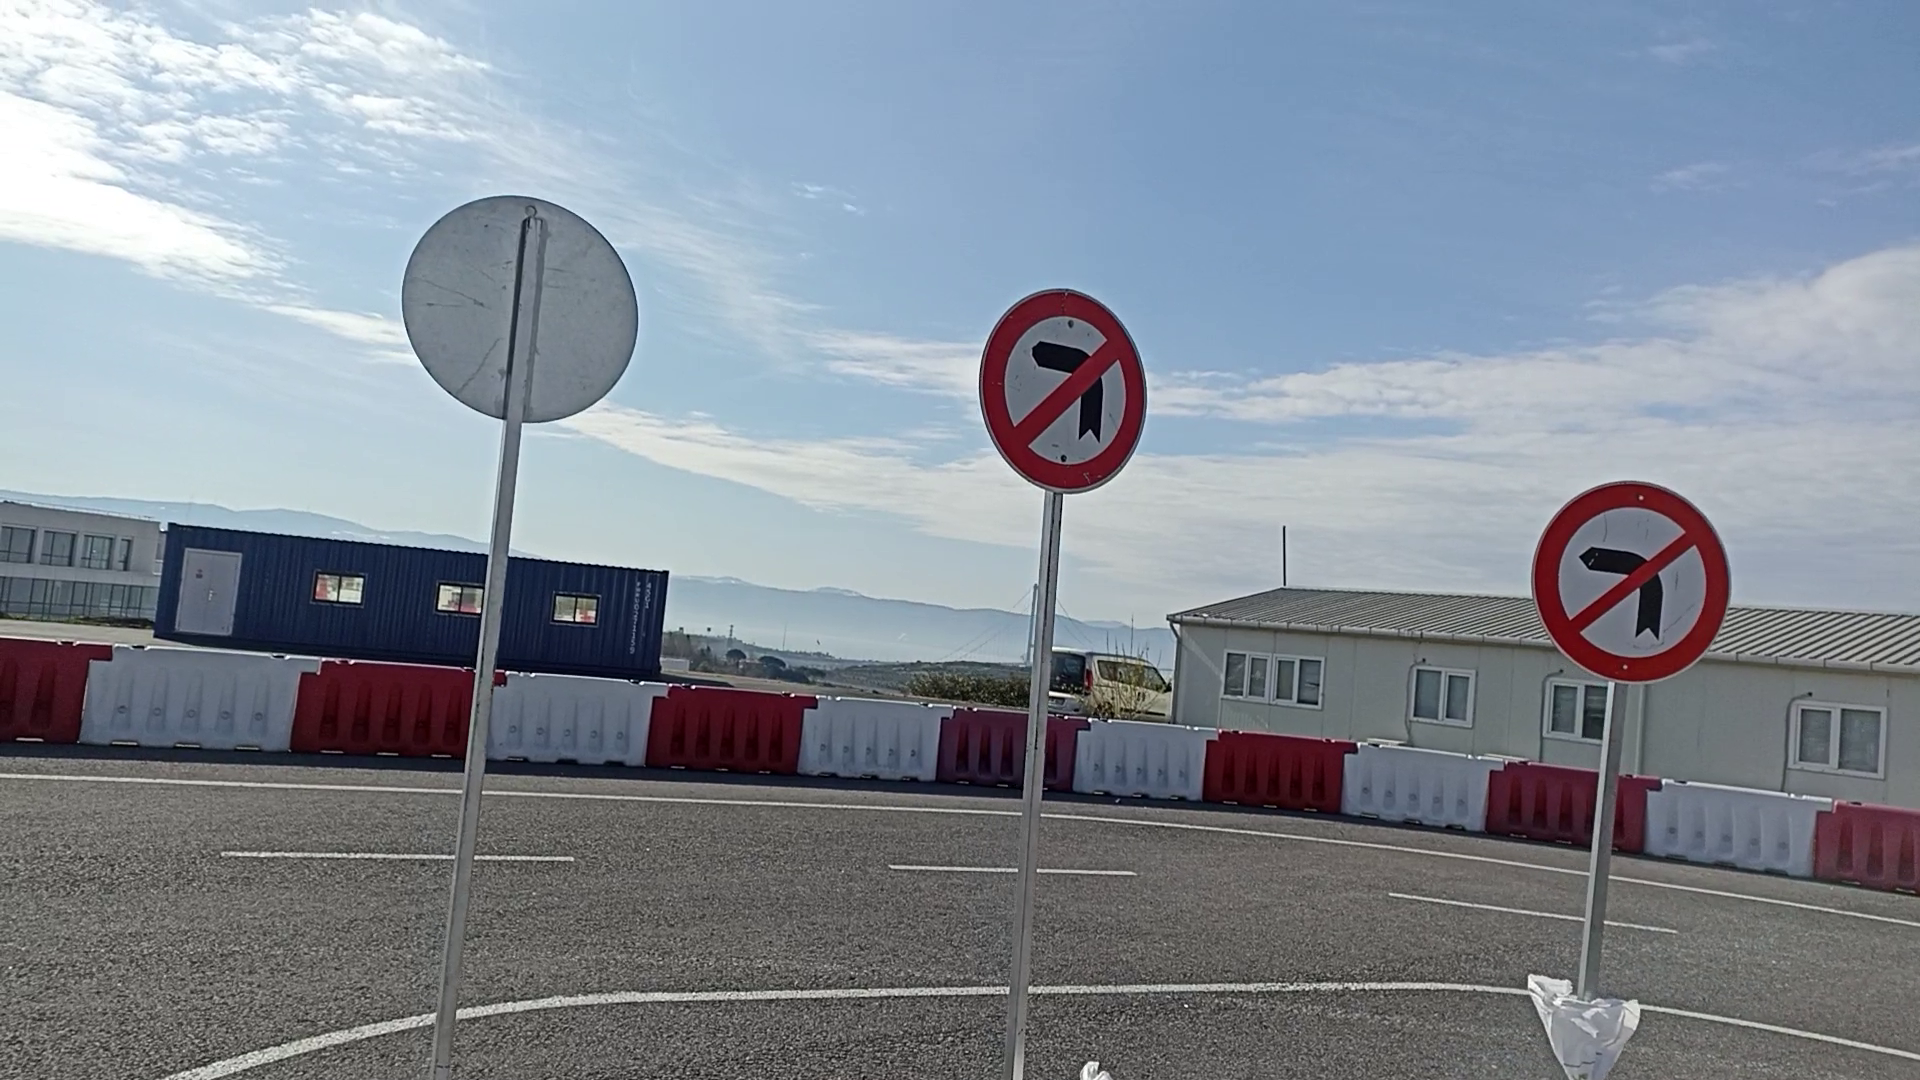noleft: (1528, 477, 1735, 688), (977, 285, 1150, 497)
